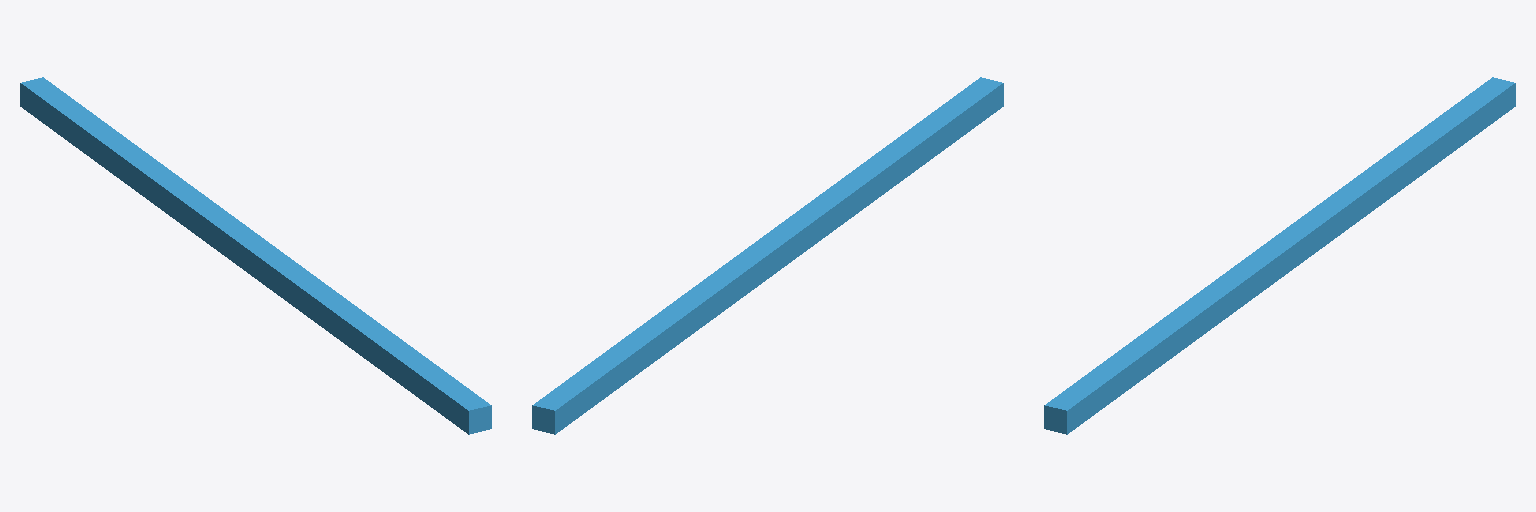
The robot description file, URDF, robot "front_bar":
<?xml version="1.0" ?>
<robot name="front_bar">
<!-- Used for fixing robot to Gazebo 'base_link' -->

<link name="world"/>

  <joint name="fixed" type="fixed">
    <parent link="world"/>
    <child link="front_bar__link"/>
  </joint>

  <link name="front_bar__link">
    <inertial>
      <mass value="10"/>
      <inertia ixx="1.0" ixy="0.0" ixz="0.0" iyy="1.0" iyz="0.0" izz="1.0"/>
    </inertial>
    <collision>
      <geometry>
         <mesh filename="package://pal_gazebo_worlds/models/front_bar/meshes/front_bar.stl" scale="0.00999 0.00999 0.00999"/>
      </geometry>
      <surface>
        <friction>
          <ode>
            <mu1 value="1.0" />
            <mu2 value="1.0" />
            <kp  value="1e5" />
            <kd  value="1e2" />
            <maxVel  value="100.0" />
            <minDepth  value="0.0" />
            <dampingFactor>0.01</dampingFactor>
          </ode>
        </friction>
      </surface>
    </collision>
    <visual>
      <geometry>
        <mesh filename="package://pal_gazebo_worlds/models/front_bar/meshes/front_bar.stl" scale="0.00999 0.00999 0.00999"/>
      </geometry>
      <material name="white">
      </material>
    </visual>
  </link>



</robot>

--- Render facts (derived) ---
Views: 3 orthographic renders of the robot side by side, from view 1: azimuth 30°, elevation 25°; view 2: azimuth 150°, elevation 25°; view 3: azimuth 330°, elevation 25°.
Robot: front_bar — 2 links, 1 joints (1 fixed); root link world; default pose: all joints at 0.
Visible links, largest first — view 1: front_bar__link; view 2: front_bar__link; view 3: front_bar__link.
Link boxes in pixels (x1=…): front_bar__link: x1=20, y1=77, x2=491, y2=434; front_bar__link: x1=532, y1=77, x2=1003, y2=434; front_bar__link: x1=1044, y1=77, x2=1515, y2=434.
Bounding box of the posed robot: 0.02 × 0.6793 × 0.02 m (x, y, z).
1 mesh visuals loaded from 1 distinct referenced files (1 binary STL).